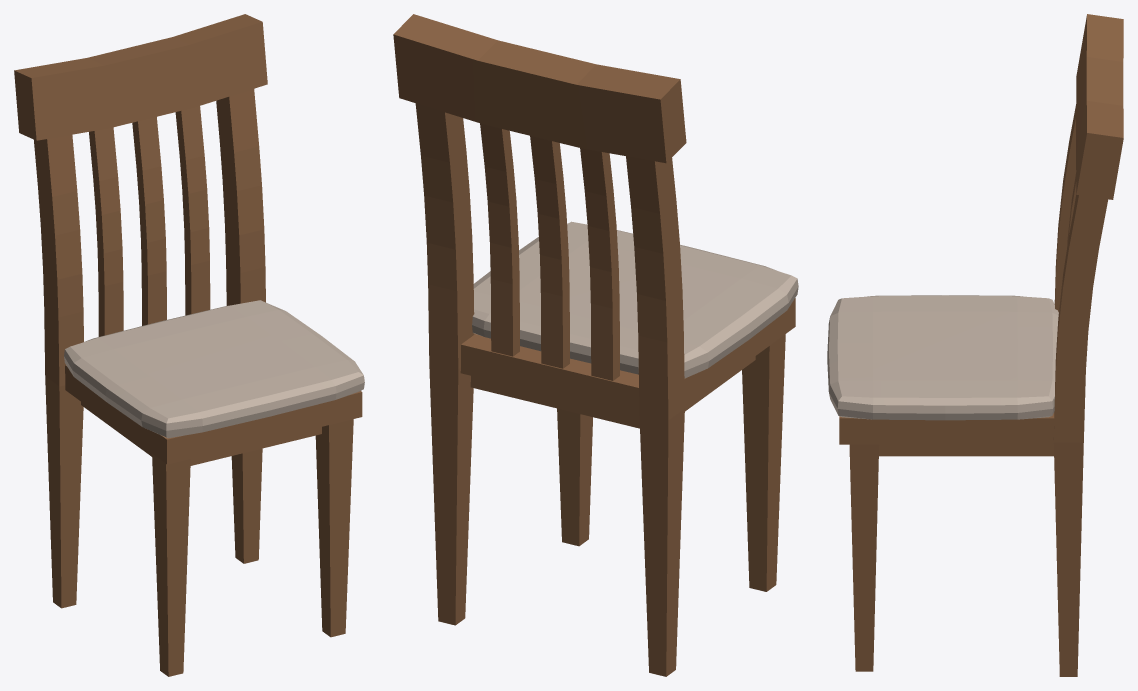
The model's file is chair.glb.
3 views of the same model, side by side, from view 1: azimuth 30°, elevation 25°; view 2: azimuth 150°, elevation 25°; view 3: azimuth 270°, elevation 25° (orthographic). The views are drawn at different scales.
Parts seen in each view (by area): view 1: KitchenChair_02; view 2: KitchenChair_02; view 3: KitchenChair_02.
Part boxes in pixels (box(x1,y1,x2,y2)): KitchenChair_02: box(14, 14, 364, 676); KitchenChair_02: box(393, 14, 798, 676); KitchenChair_02: box(827, 14, 1123, 676).
Size of the model in its own units: 0.8459 by 1.83 by 0.8923.
Materials: 1 (1 with a texture image).
